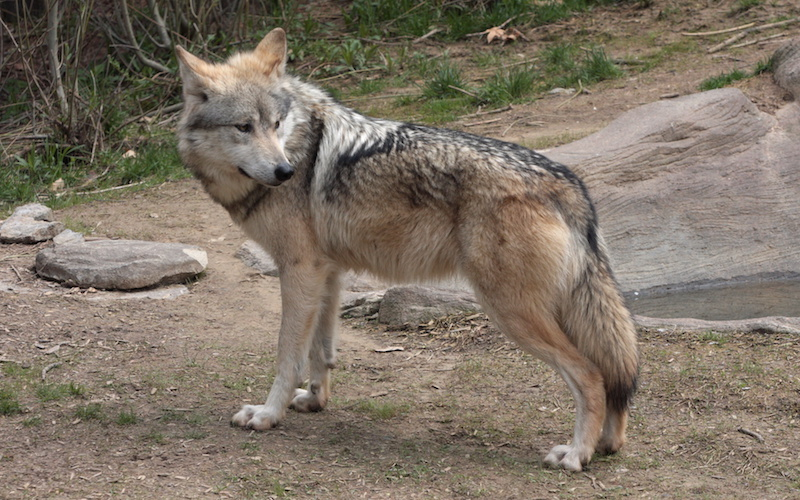Lobo: (147, 26, 639, 471)
